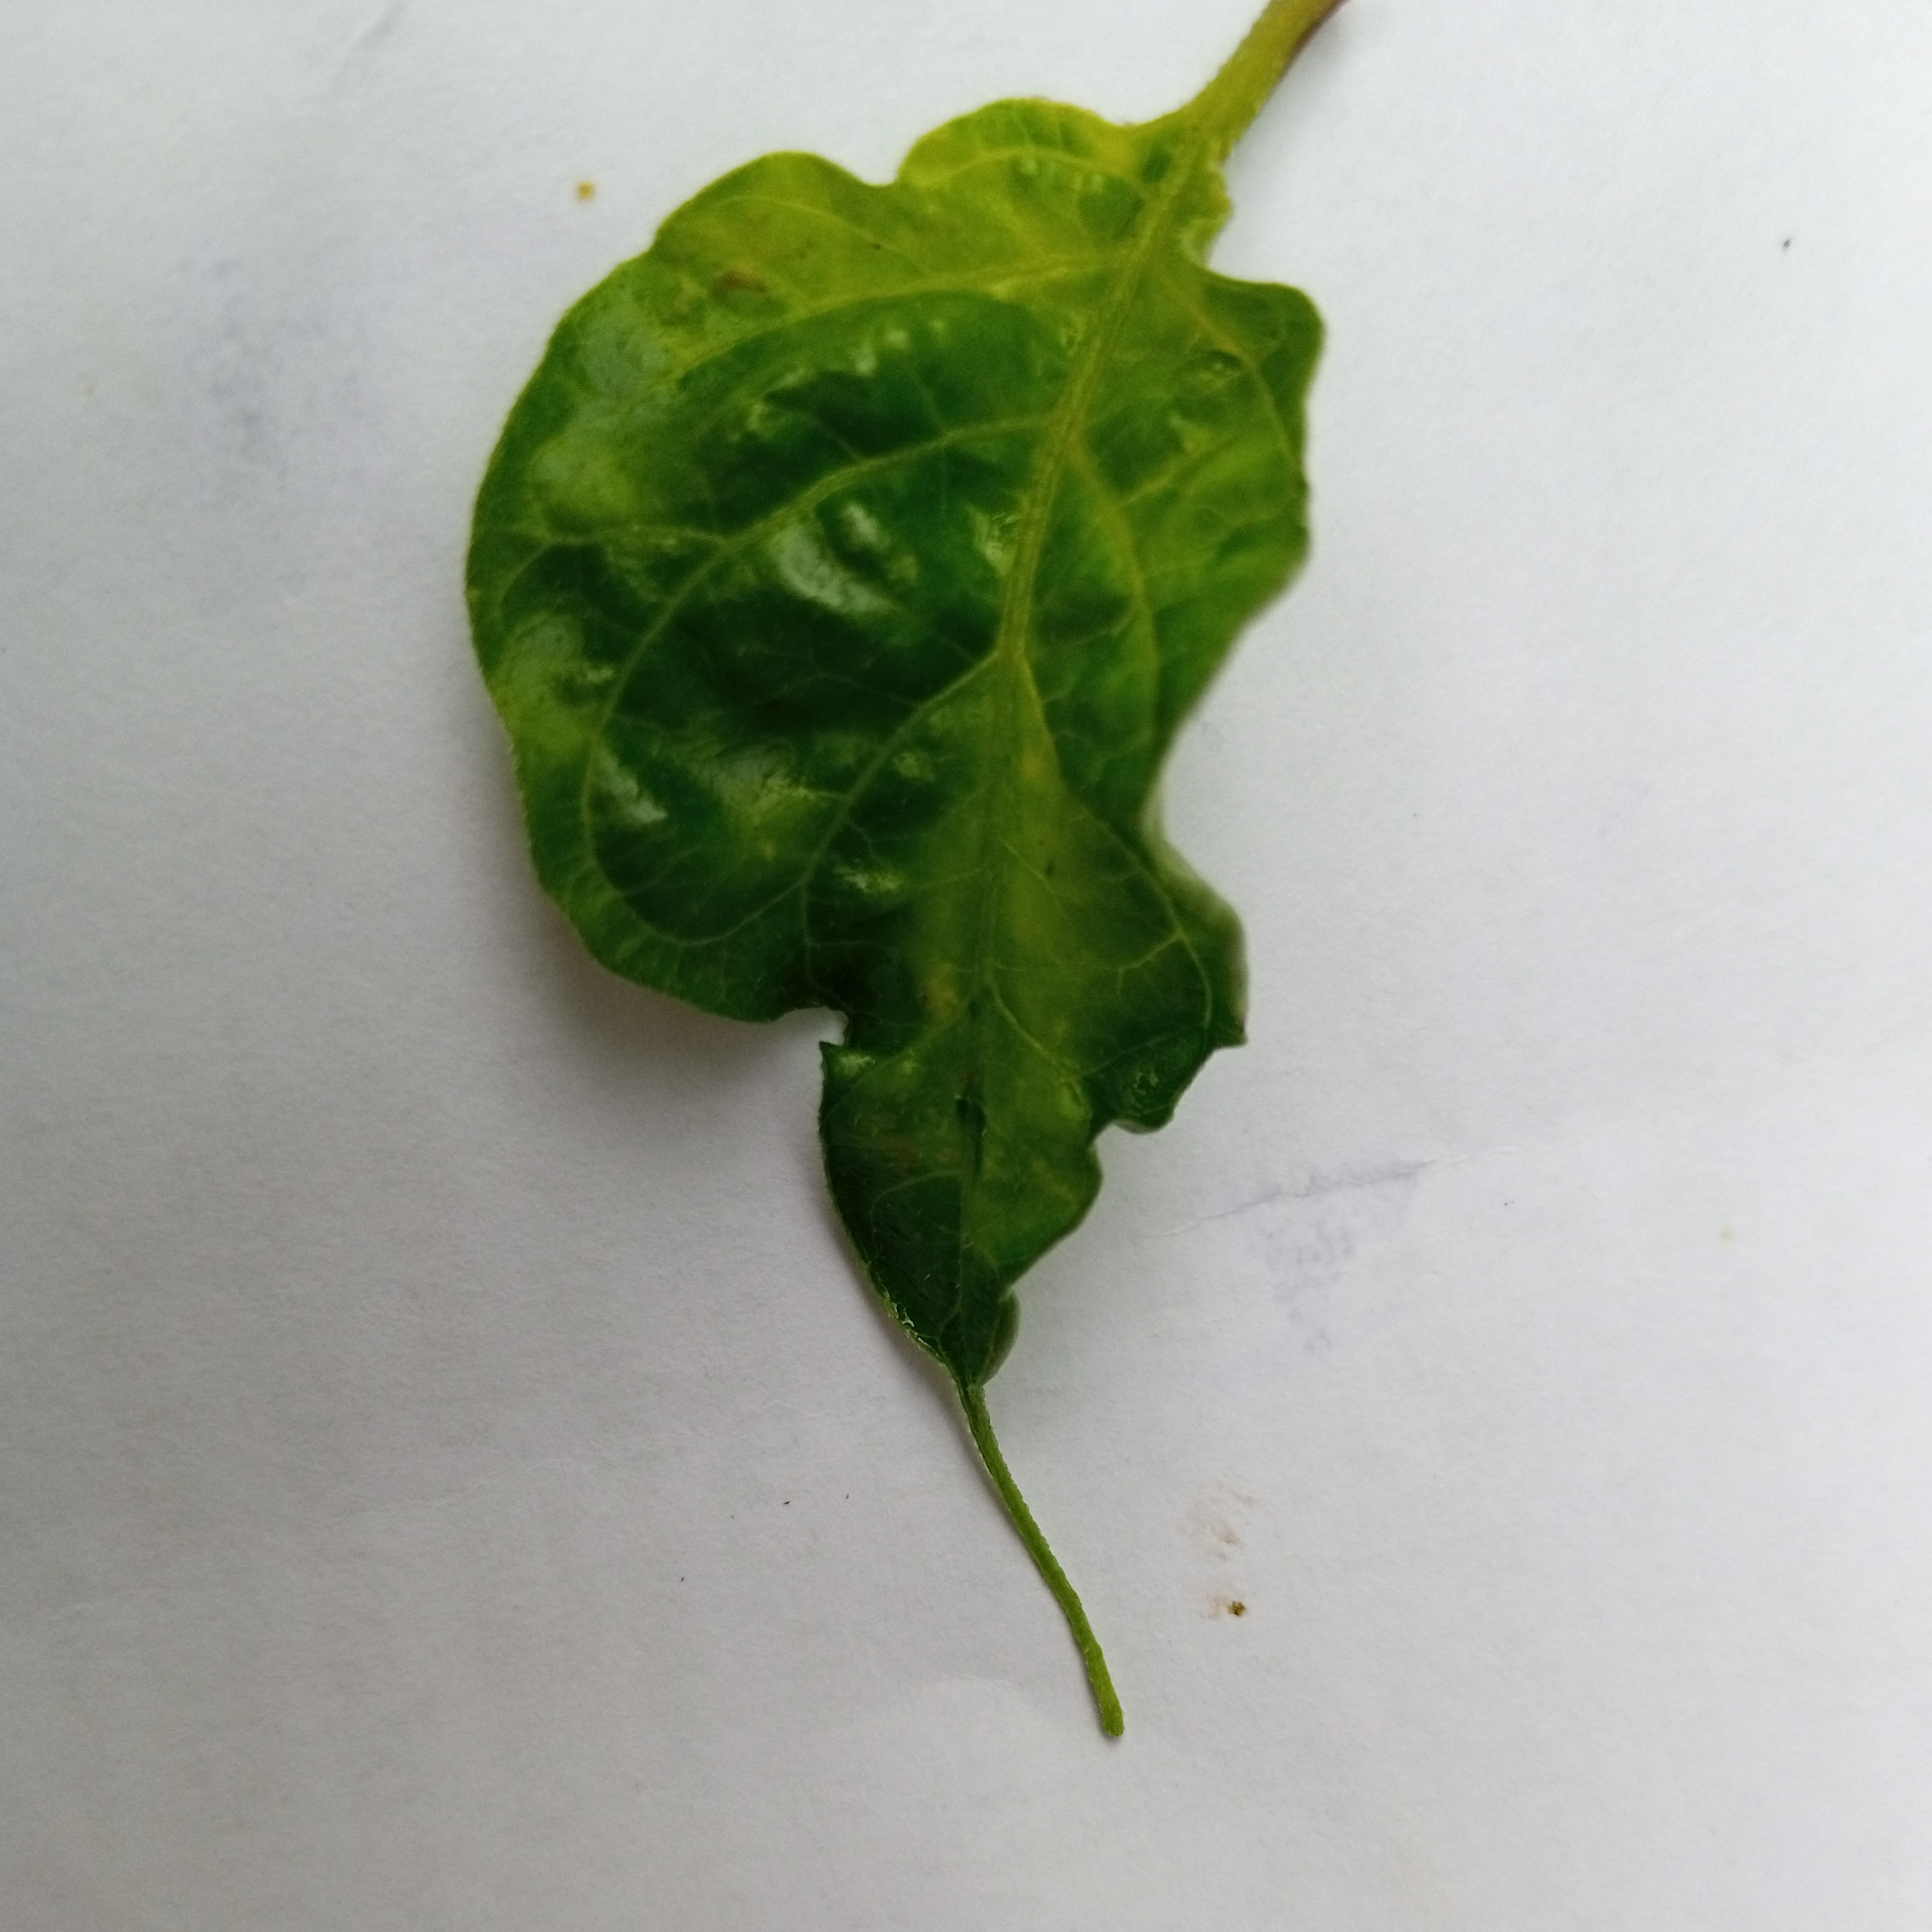Leaf: (389, 73, 1560, 1744)
